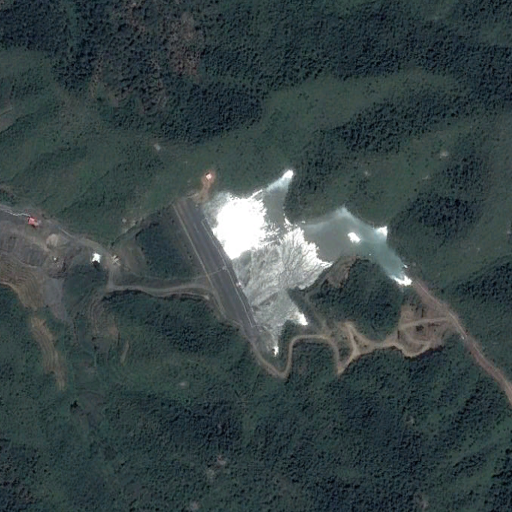tp: (172, 169, 413, 351)
